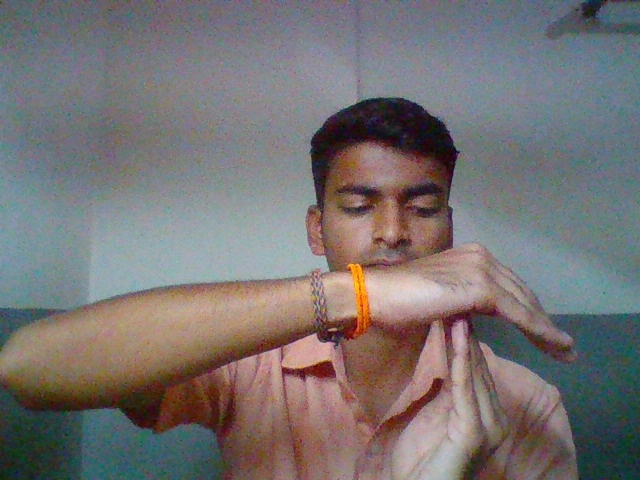J: (358, 240, 596, 480)
